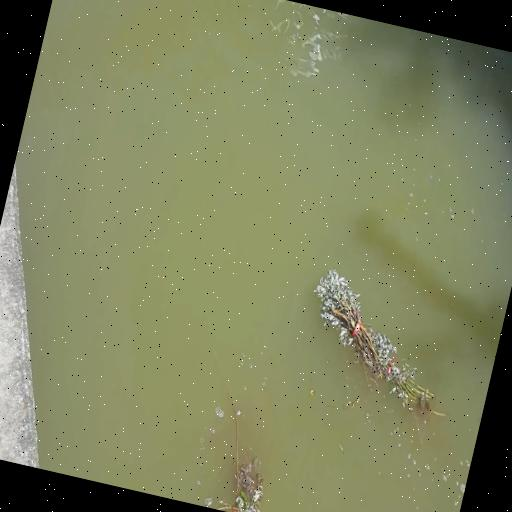twig: (314, 269, 445, 416), (216, 383, 265, 512)
